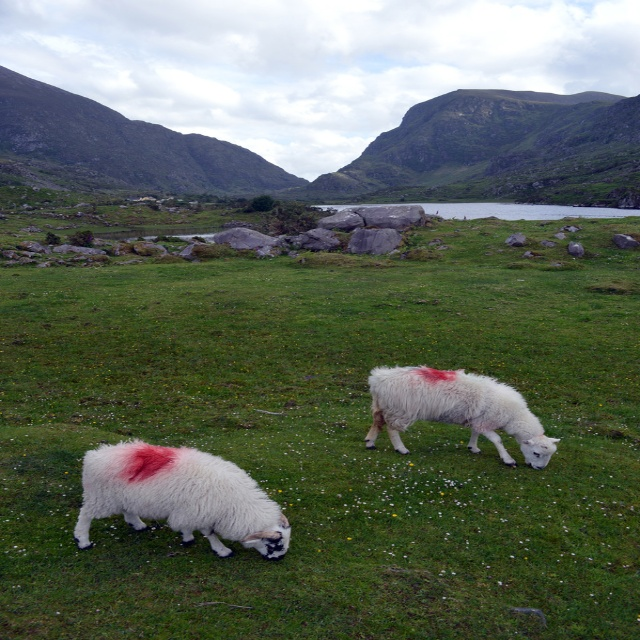Sheep: (73, 438, 293, 561), (365, 366, 555, 472)
